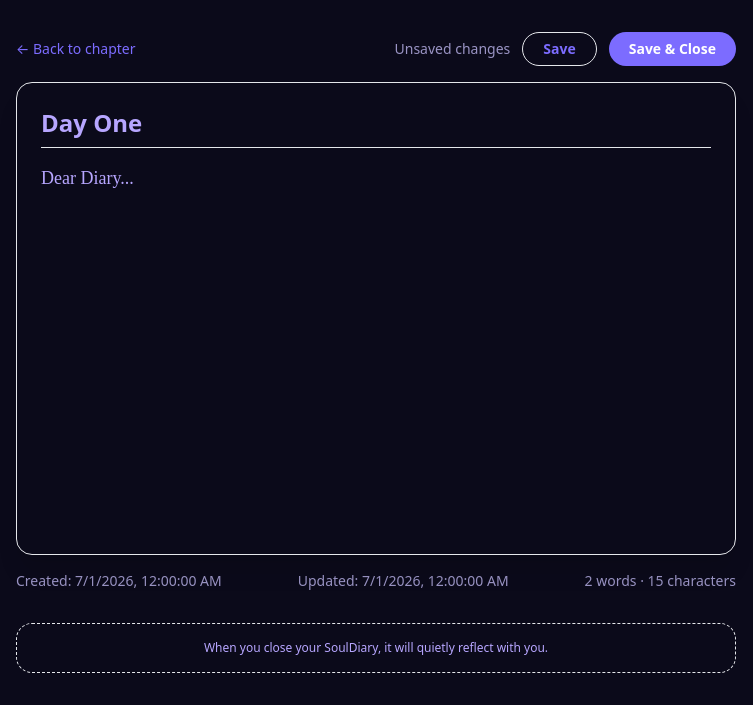
WritingPage › Save & Close shows the ink-written reflection and the ribbon
Check: the text box named "Writing area" is shown, box [41,164,711,524]
Click the button "Save & Close".
click(672, 49)  # box [609,32,736,66]
(page scrolled)
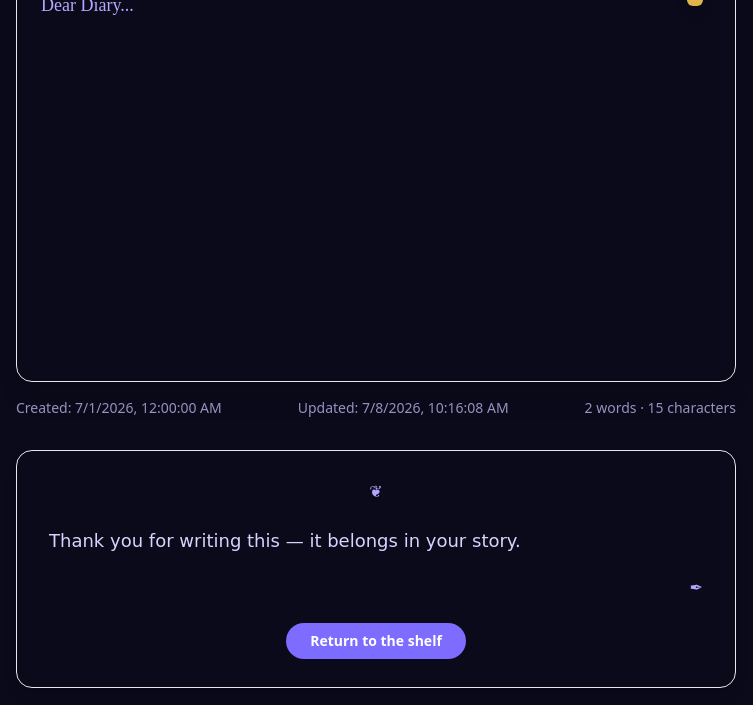
Check: the element labelled "Thank you for writing this — it belongs in your story." is shown, box [49,530,521,551]
Check: the button "Return to the shelf" is shown, box [286,623,466,659]
